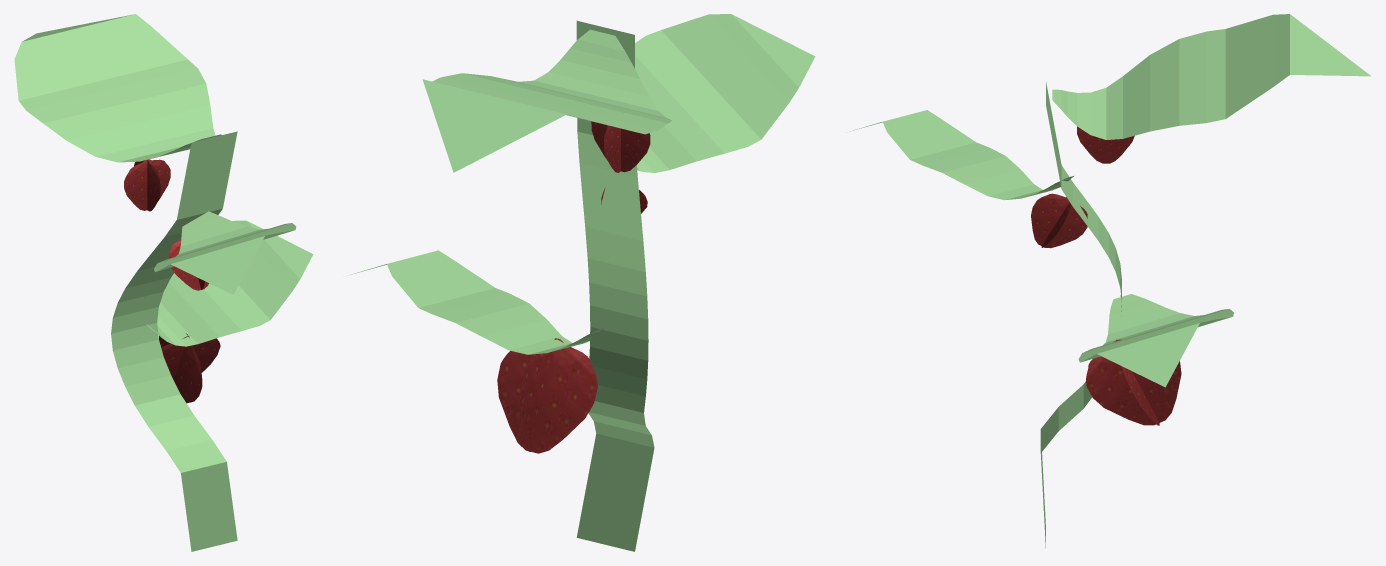
The model's file is prop_strawberry.glb.
3 views of the same model, side by side, from view 1: azimuth 30°, elevation 25°; view 2: azimuth 150°, elevation 25°; view 3: azimuth 270°, elevation 25° (orthographic). The views are drawn at different scales.
Parts seen in each view (by area): view 1: Plane.005; view 2: Plane.005; view 3: Plane.005.
Boxes of the visible parts, x1=… form: Plane.005: x1=14, y1=14, x2=313, y2=551; Plane.005: x1=351, y1=14, x2=815, y2=551; Plane.005: x1=853, y1=14, x2=1370, y2=548.
Bounding box in the file's own units: 0.8049 × 1.27 × 1.26.
Materials: 2 (1 with a texture image).
